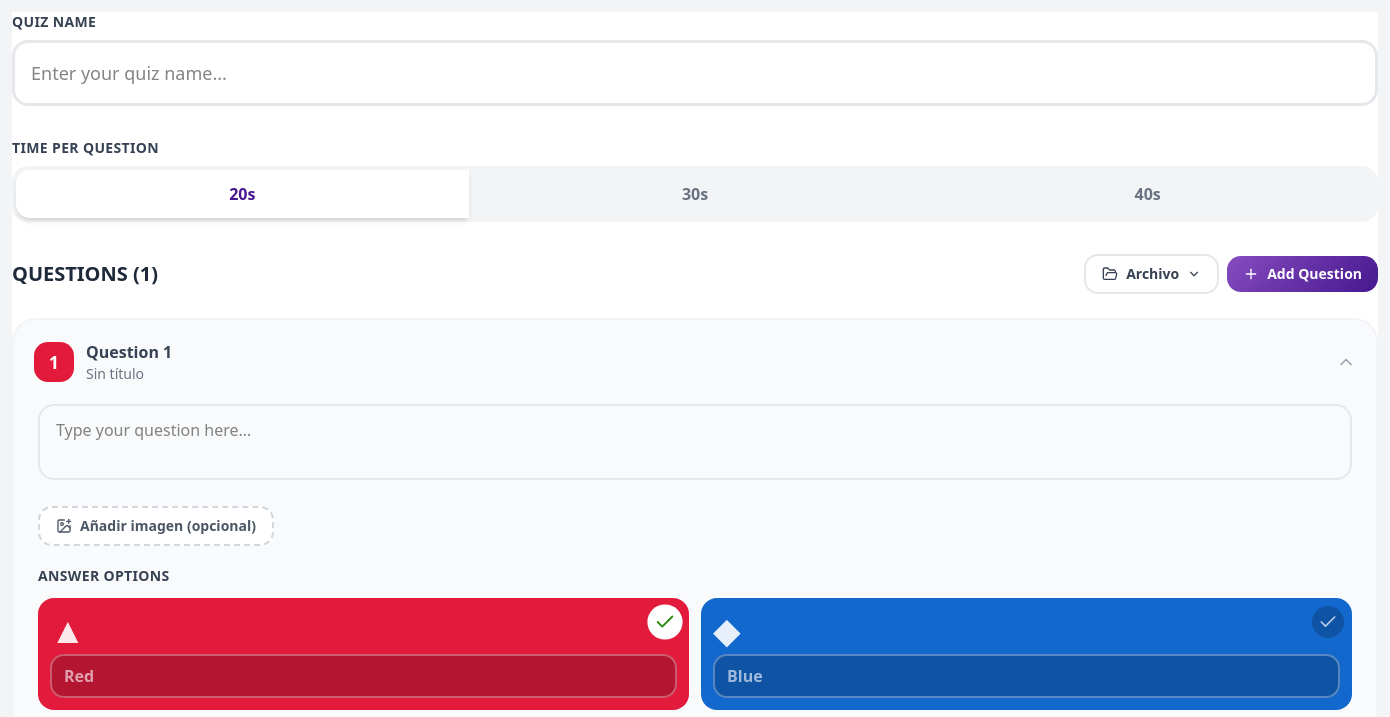
GameForm (caracterización US-14) › Add Question agrega preguntas y el botón de borrar solo aparece con más de una
Step 1. Click the button "Add Question" → (1303, 274), box [1227, 256, 1378, 292]
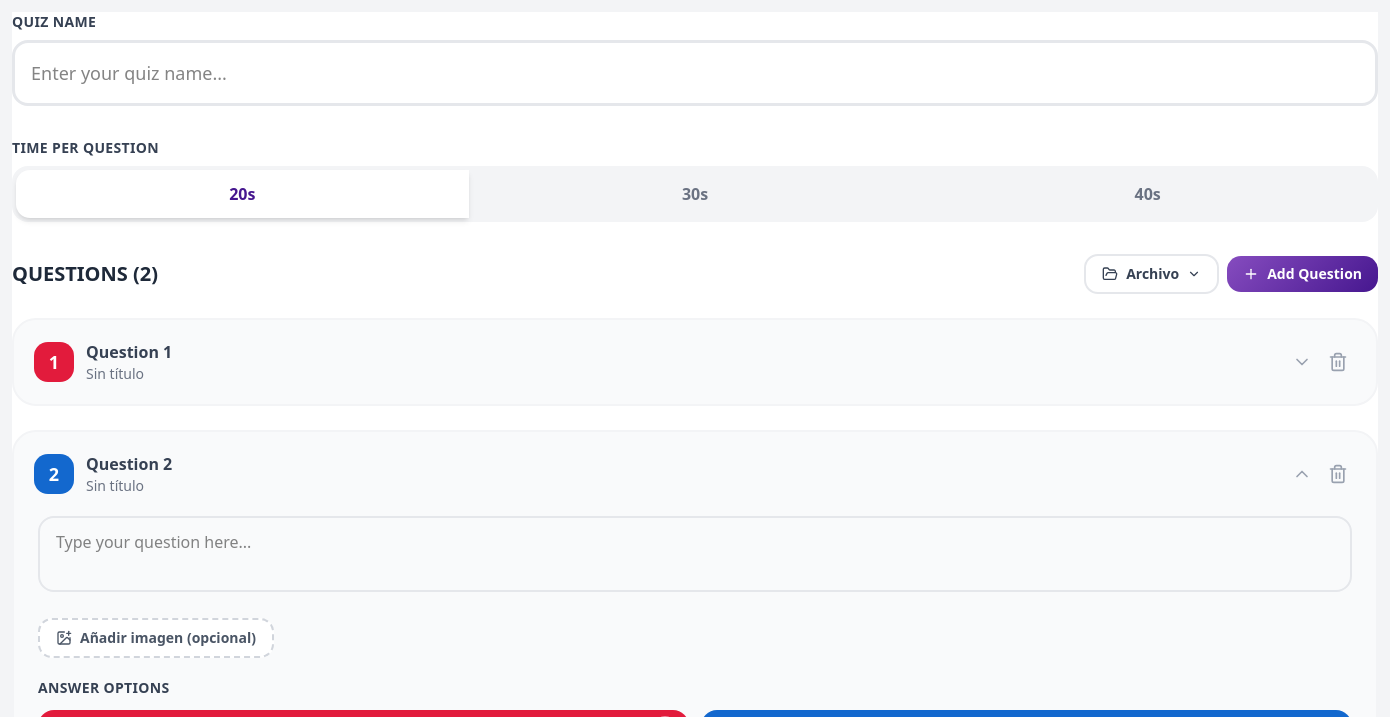
Now the heading "Questions (2)" is shown, box [12, 260, 158, 288]
Now the text "Question 2" is shown, box [86, 453, 172, 475]
Step 2. Click the button with class "lucide-trash2" → (1338, 362), box [1320, 344, 1356, 380]
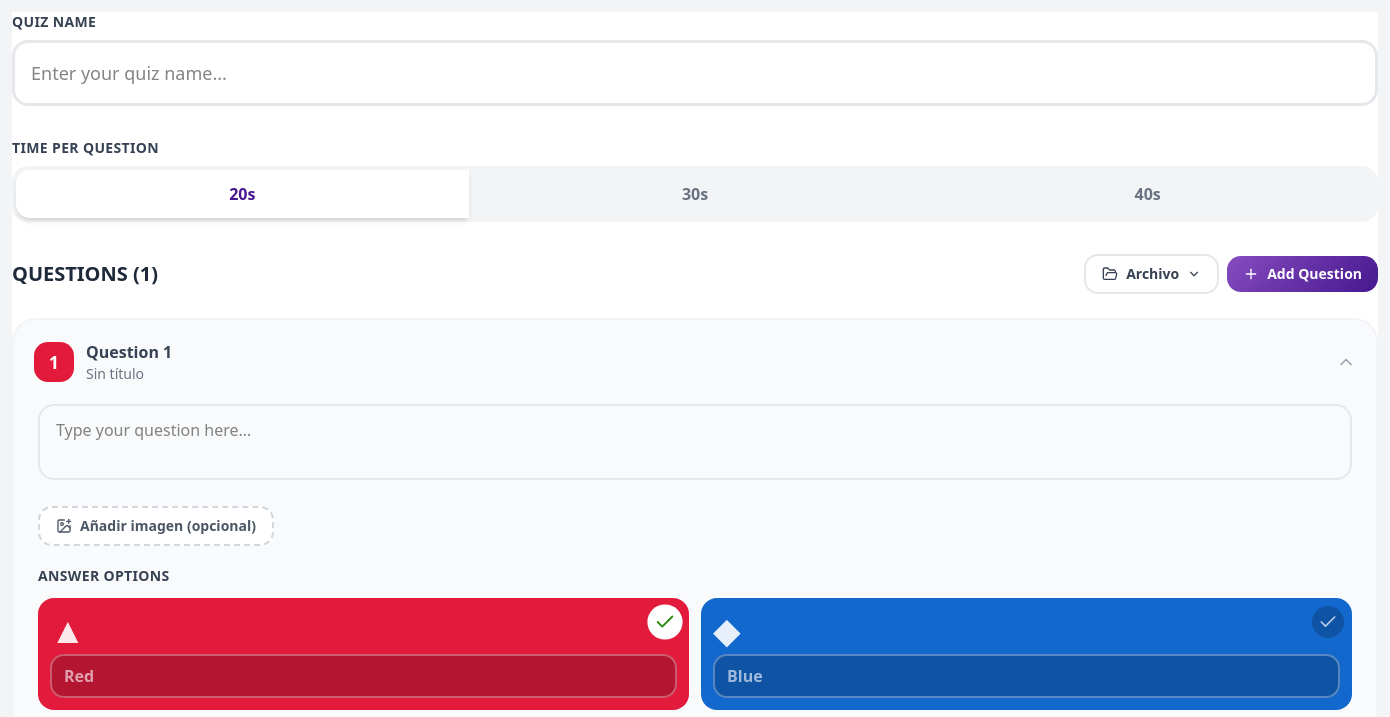
Now the heading "Questions (1)" is shown, box [12, 260, 158, 288]
